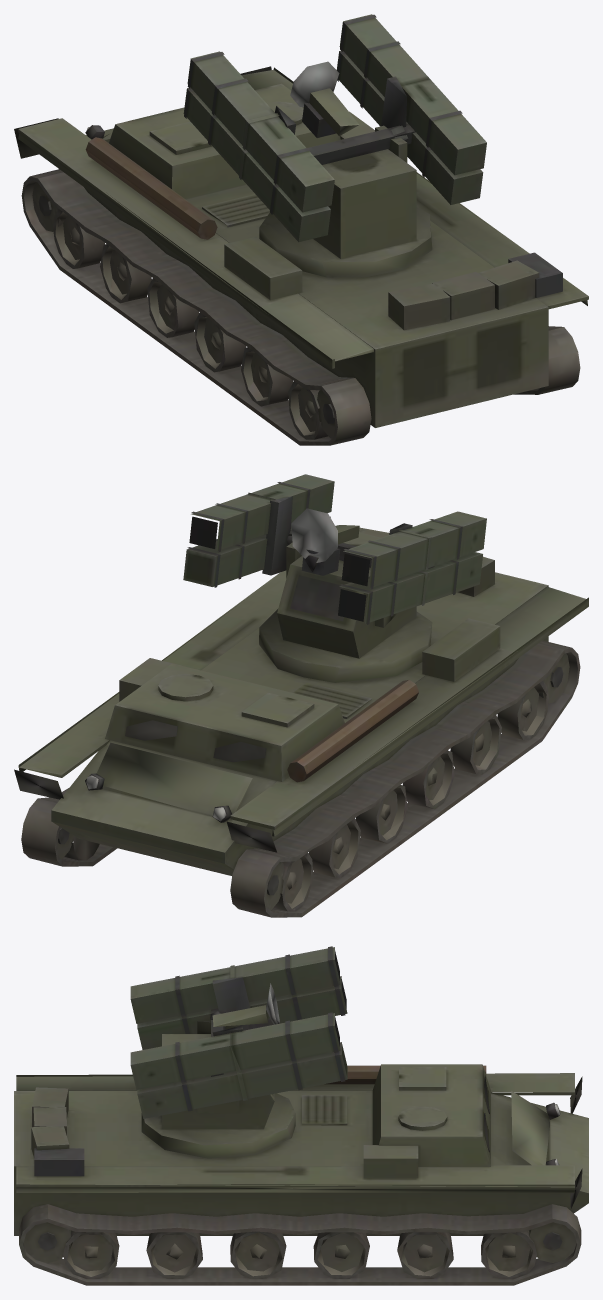
Rendered from sam_launcher_lod1.glb.
3 views of the same model, one above another, from view 1: azimuth 30°, elevation 25°; view 2: azimuth 150°, elevation 25°; view 3: azimuth 270°, elevation 25° (orthographic). The views are drawn at different scales.
Parts seen in each view (by area): view 1: hull, launcher, turret; view 2: hull, launcher, turret; view 3: hull, launcher, turret.
Part boxes in pixels (bbox=[...]): hull: bbox=[14, 66, 588, 445]; launcher: bbox=[183, 14, 486, 242]; turret: bbox=[259, 125, 432, 277]; hull: bbox=[14, 527, 588, 917]; launcher: bbox=[183, 474, 486, 624]; turret: bbox=[259, 530, 432, 682]; hull: bbox=[14, 1064, 588, 1285]; launcher: bbox=[130, 946, 347, 1118]; turret: bbox=[141, 1011, 295, 1158].
Size of the model in its own units: 2.9 by 3 by 6.33.
Materials: 1 (1 with a texture image).
